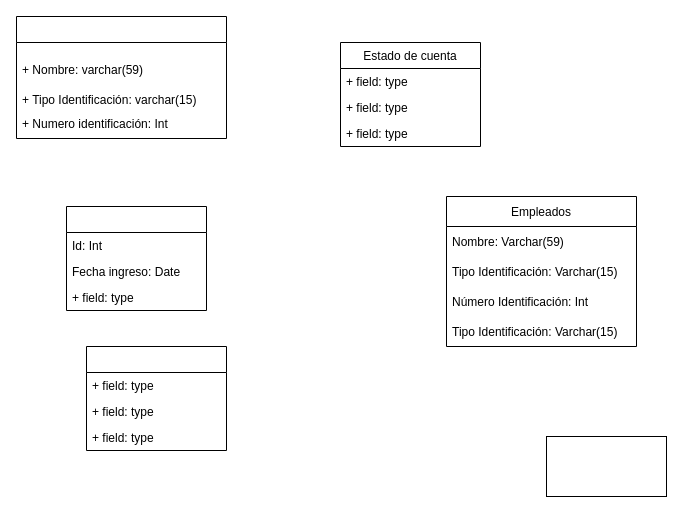
The diagram is 683 pixels wide and 513 high, and some of its shapes have lost their labels. The box of each missing label's shape, as (x1, y1, x2, y2) in pixels:
Historia Clinica: (66, 206, 206, 310)
Paciente: (16, 16, 226, 138)
